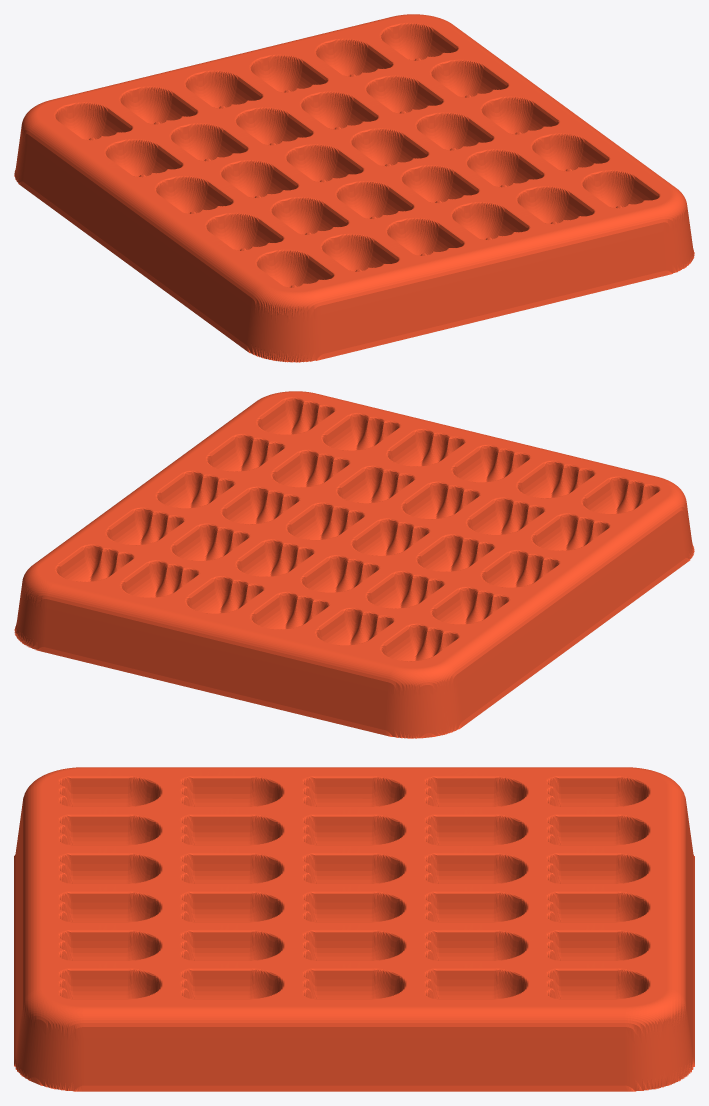
Rendered from mold.glb.
3 renders of one model, top to bottom at view 1: azimuth 30°, elevation 25°; view 2: azimuth 150°, elevation 25°; view 3: azimuth 270°, elevation 25°, orthographic. The views are drawn at different scales.
Parts seen in each view (by area): view 1: geometry_0; view 2: geometry_0; view 3: geometry_0.
Part boxes in pixels (x1,y1,x2,y2): geometry_0: [14, 14, 694, 362]; geometry_0: [14, 391, 694, 738]; geometry_0: [14, 767, 694, 1091].
Bounding box in the file's own units: 0.08 × 0.0105 × 0.0882.
